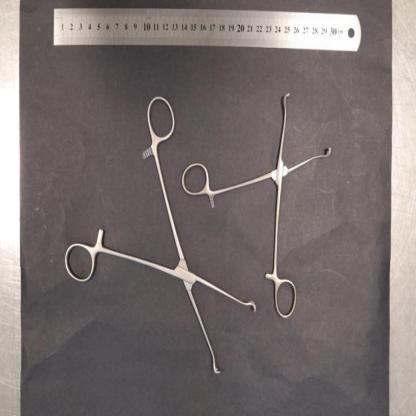8 Babcock Tissue Forceps: (66, 98, 258, 374)
Babcock Tissue Forceps: (182, 94, 332, 320)
